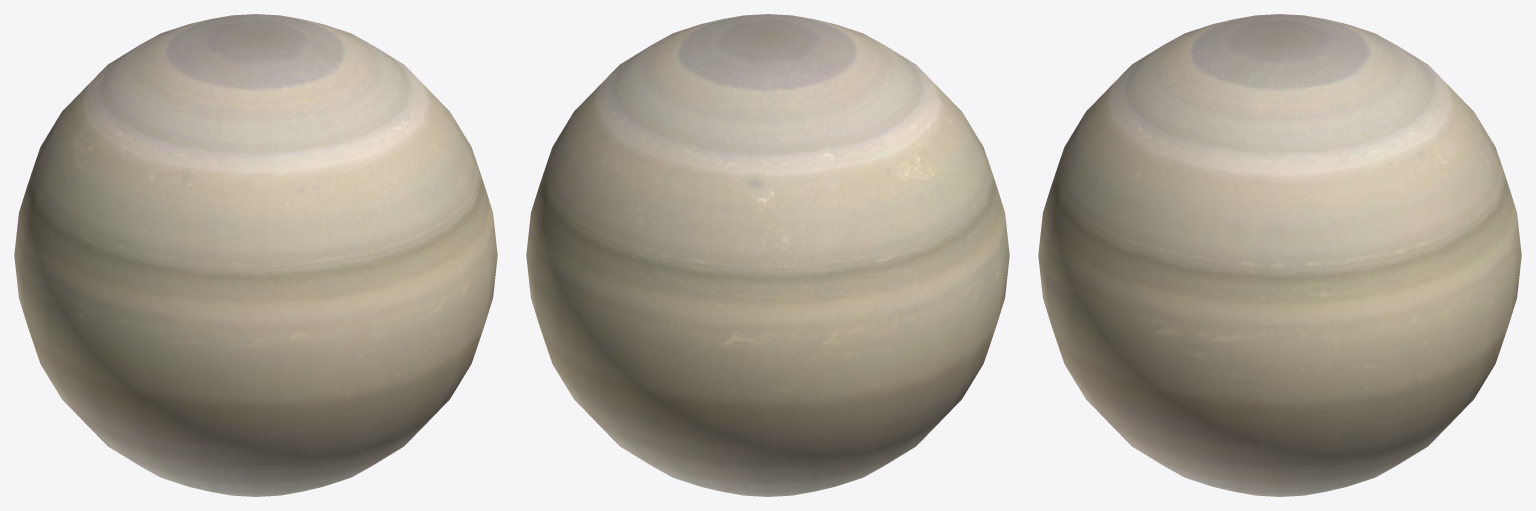
File: venus.dae
The picture shows the model from 3 angles, left to right: view 1: azimuth 30°, elevation 25°; view 2: azimuth 150°, elevation 25°; view 3: azimuth 270°, elevation 25°; orthographic projection.
Visible parts, largest first — view 1: Model; view 2: Model; view 3: Model.
Part boxes in pixels (x1=…): Model: x1=14, y1=14, x2=497, y2=496; Model: x1=526, y1=14, x2=1009, y2=496; Model: x1=1038, y1=14, x2=1521, y2=496.
Size of the model in its own units: 105 by 105 by 105.
Materials: 1 (1 with a texture image).
